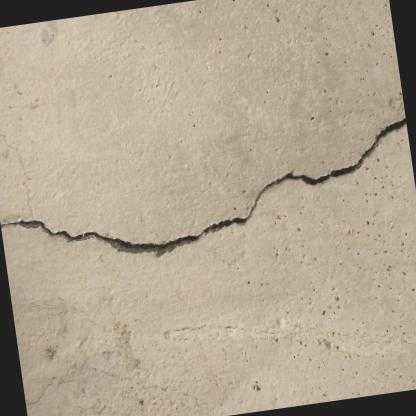crack: (0, 116, 406, 258)
